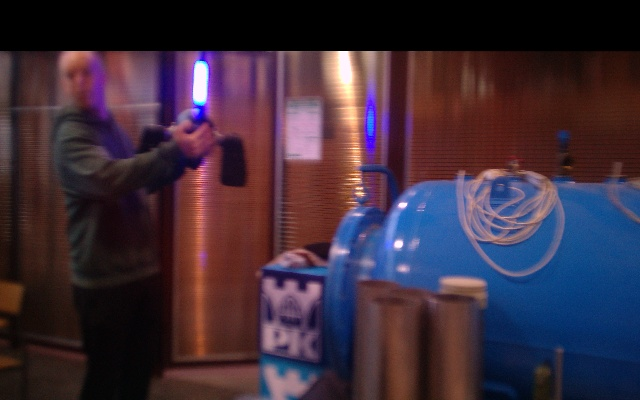blue: (194, 60, 208, 104)
